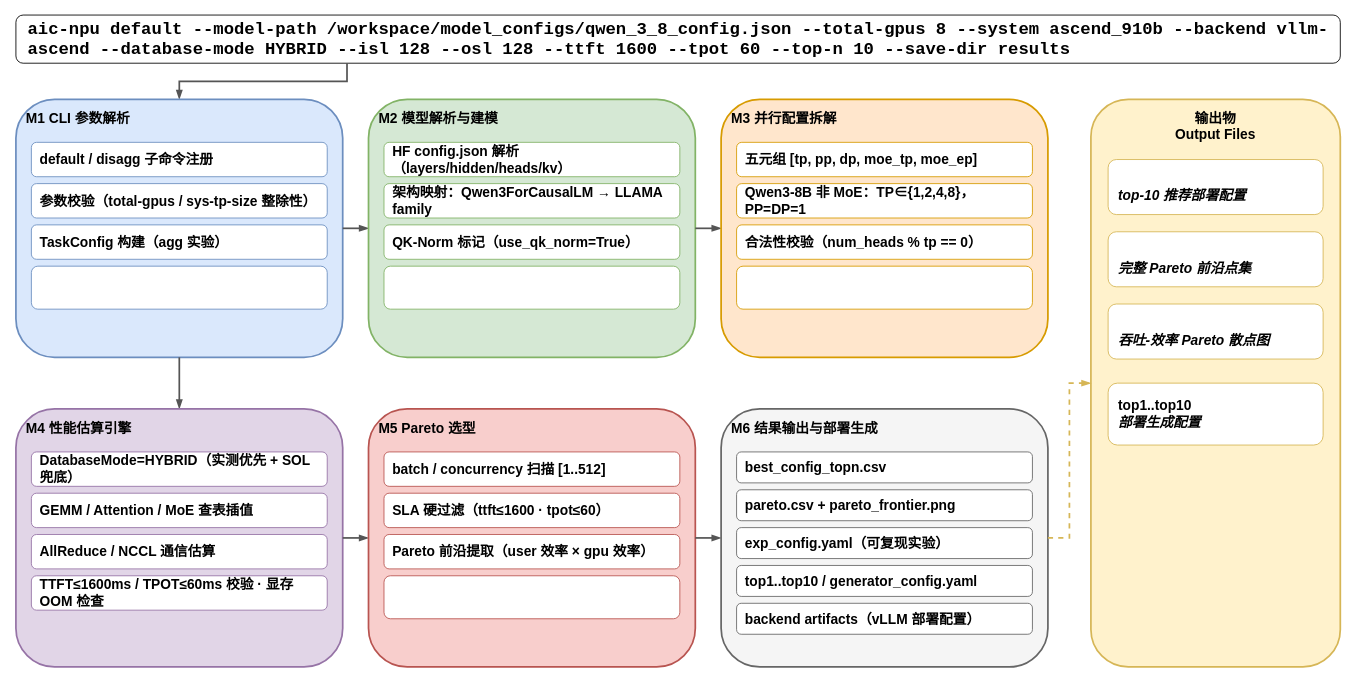
The diagram is 1355 pixels wide and 683 high, and some of its shapes have lost their labels. The centre of each missing label's shape, as x and y in pixels:
"LLAMAModel 算子图构建 Embedding / QKV / Attn / Proj / FFN / Logits" goes at point (531, 287).
"pick_default：固定 8 卡最大化吞吐 top-n=10，按并行组去重" goes at point (531, 597).
"total-gpus=8 预算裁剪 num_gpu_per_worker ∩ {1,2,4,8}" goes at point (884, 287).
"配置叠层工厂 base → agg-defaults → profile → finalize" goes at point (179, 287).
